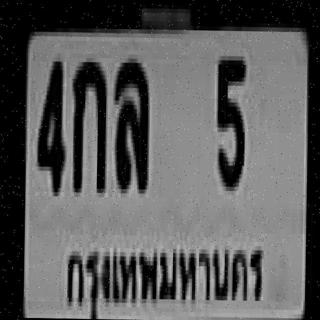A01: (71, 58, 105, 188)
A36: (111, 54, 149, 189)
N04: (35, 52, 65, 192)
N05: (214, 52, 244, 187)
P04: (62, 240, 266, 314)
